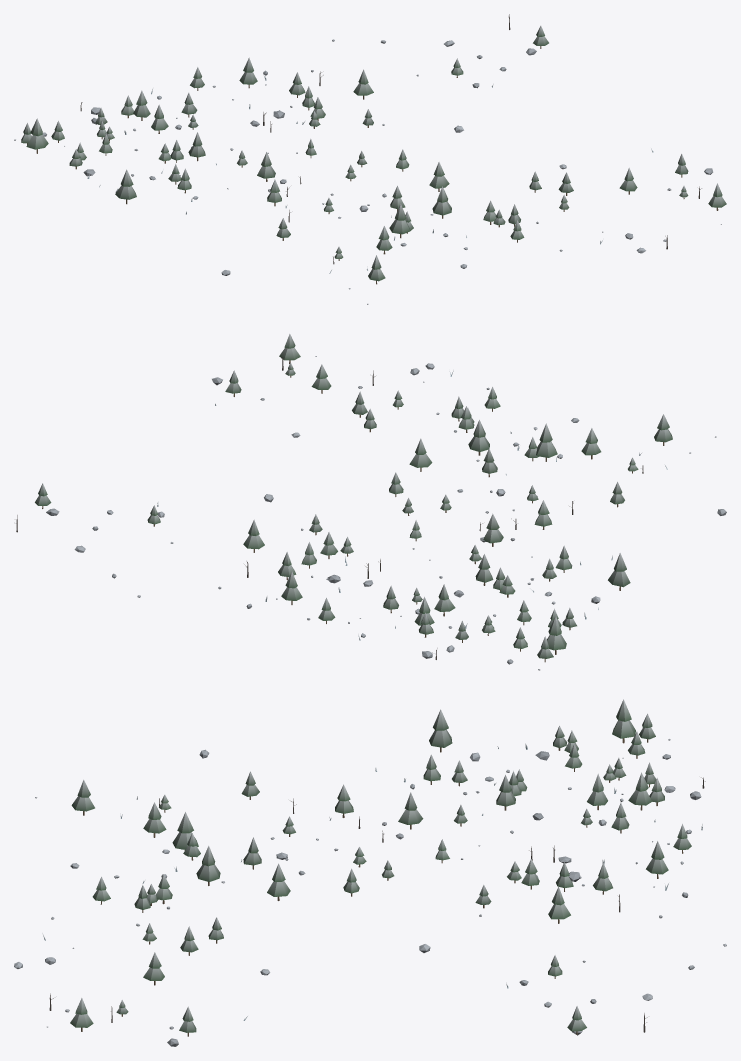
File: frost_land_scatter_c14_10_lod1.glb
3 renders of one model, top to bottom at view 1: azimuth 30°, elevation 25°; view 2: azimuth 150°, elevation 25°; view 3: azimuth 270°, elevation 25°, orthographic. The views are drawn at different scales.
Visible parts, largest first — view 1: frost_land_scatter_c14_10_lod1; view 2: frost_land_scatter_c14_10_lod1; view 3: frost_land_scatter_c14_10_lod1.
Boxes of the visible parts, x1=… form: frost_land_scatter_c14_10_lod1: x1=14, y1=14, x2=726, y2=304; frost_land_scatter_c14_10_lod1: x1=16, y1=334, x2=726, y2=670; frost_land_scatter_c14_10_lod1: x1=14, y1=699, x2=726, y2=1046.
Bounding box in the file's own units: 253 × 27.94 × 251.
